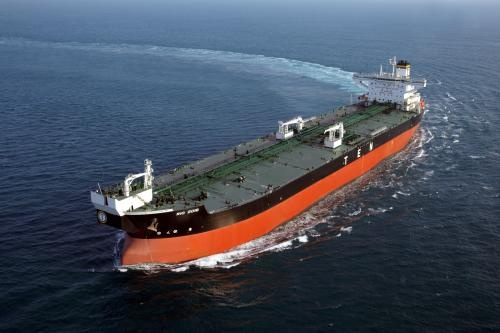Cargoship: (85, 57, 429, 268)
